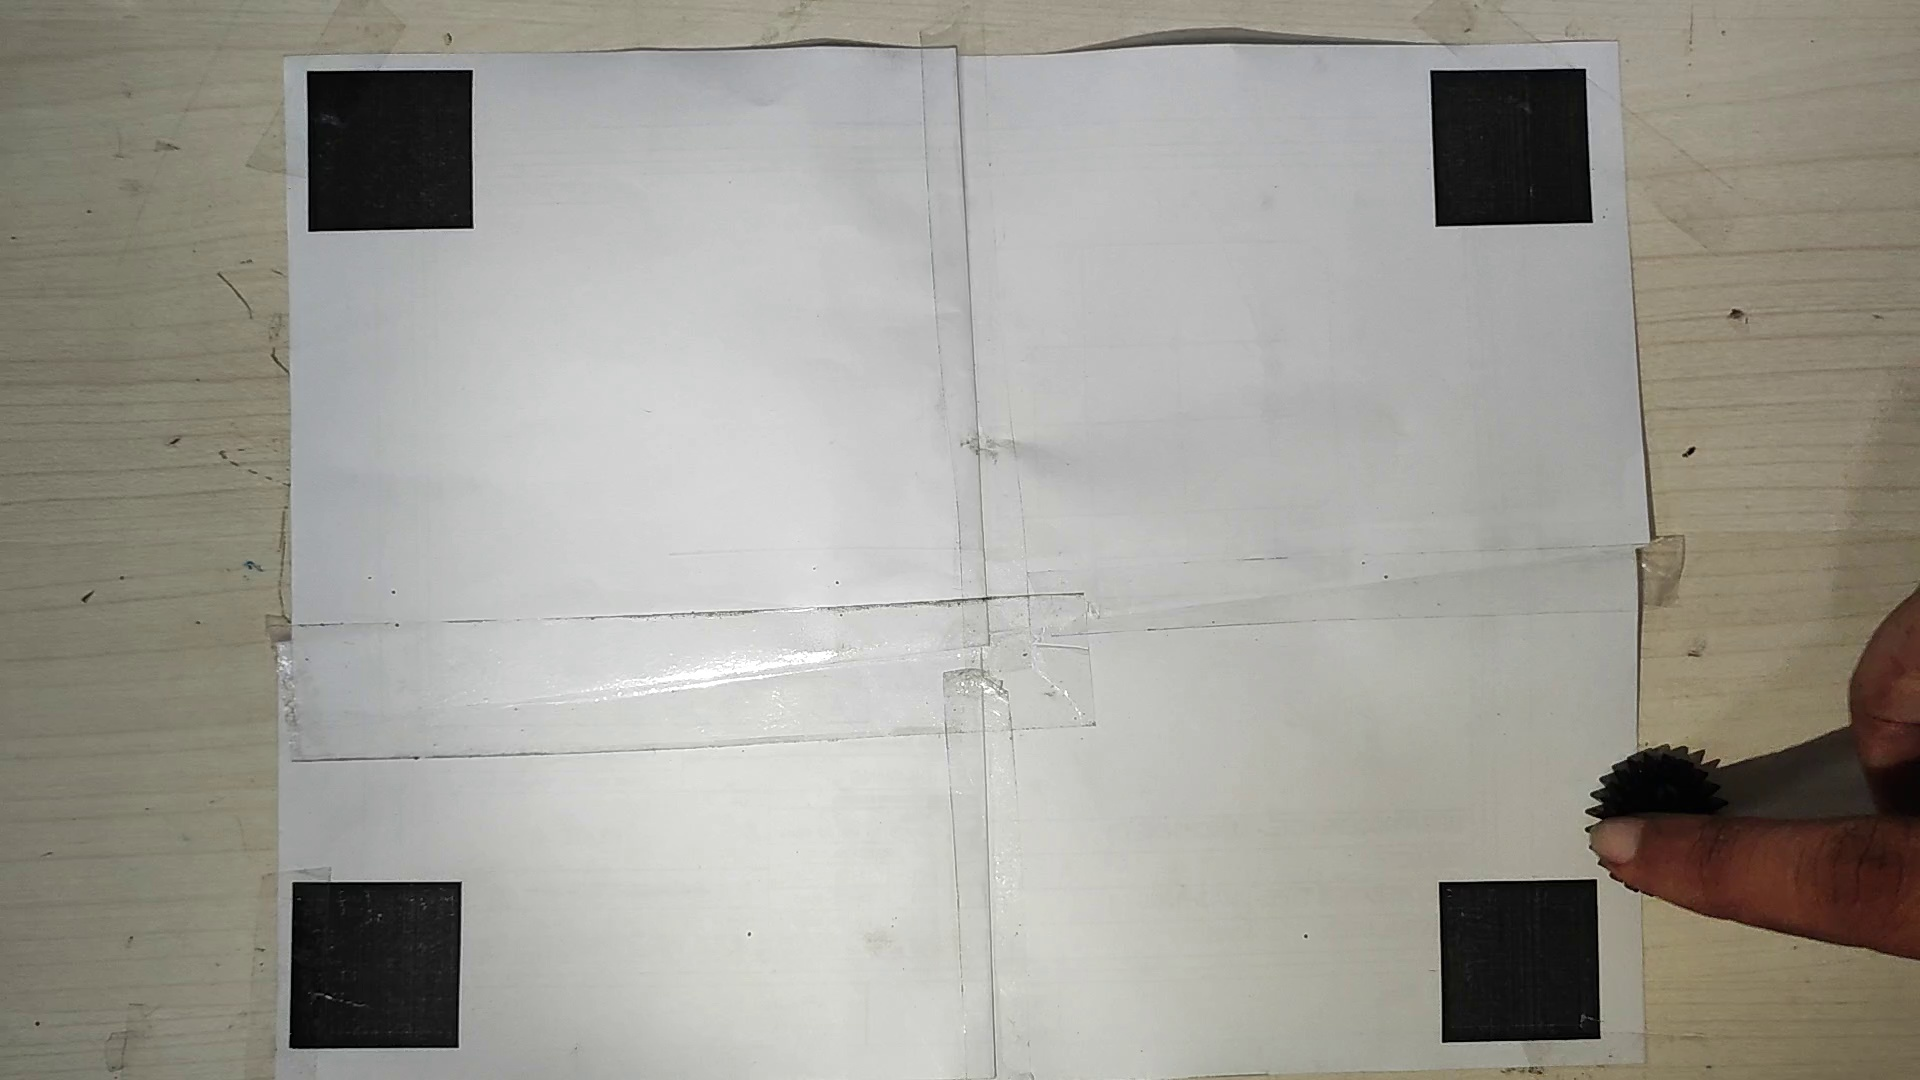Gear: (1580, 738, 1733, 911)
